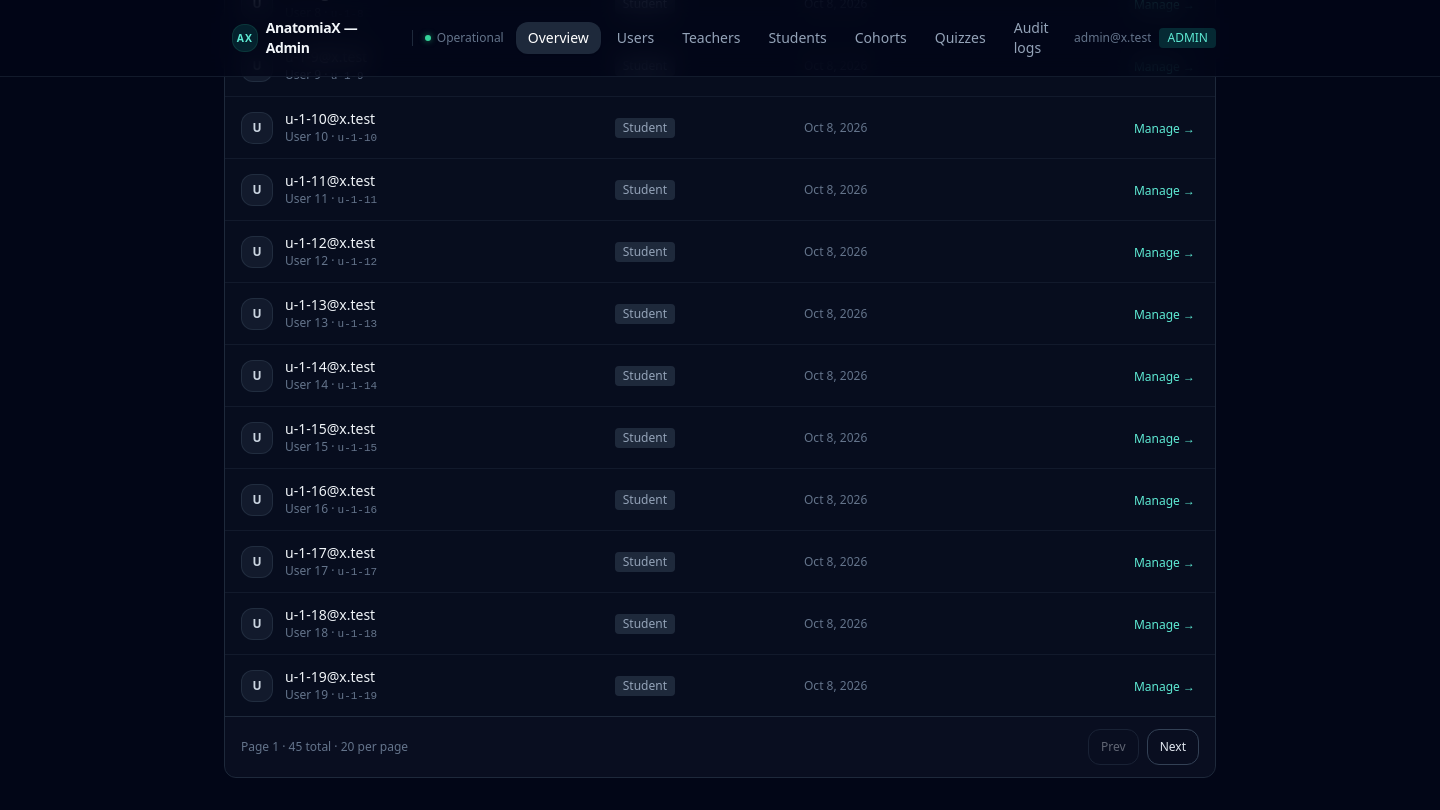
Test case: admin users pagination › pages forward and back, disabling prev on page one
(page scrolled)
Expected: the button with test id "admin-users-prev" is disabled, left=1088, top=729, right=1139, bottom=765
Click the button with test id "admin-users-next" at (1173, 747), box left=1147, top=729, right=1199, bottom=765
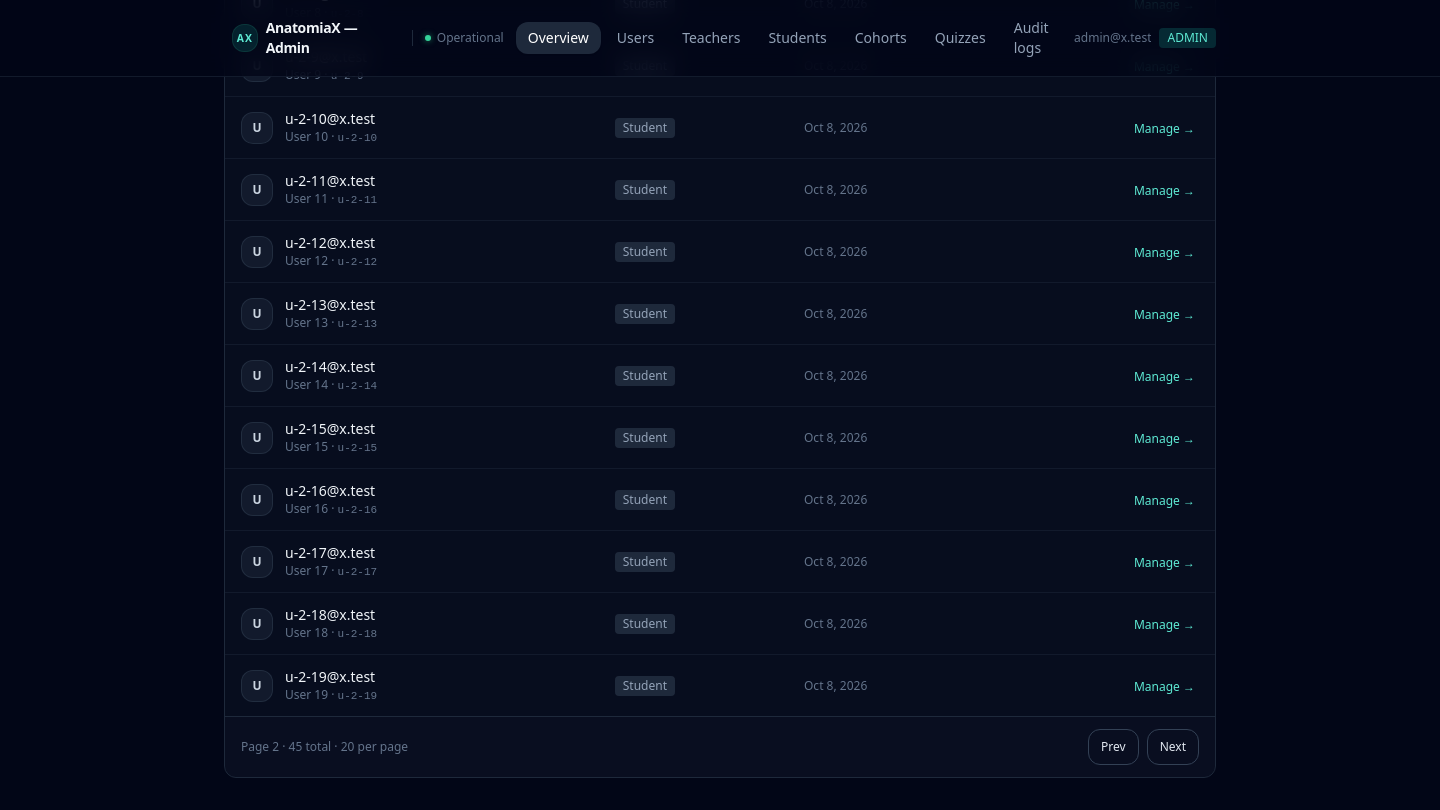
Expected: the button with test id "admin-users-prev" is enabled
Click the button with test id "admin-users-prev" at (1113, 747), box left=1088, top=729, right=1139, bottom=765
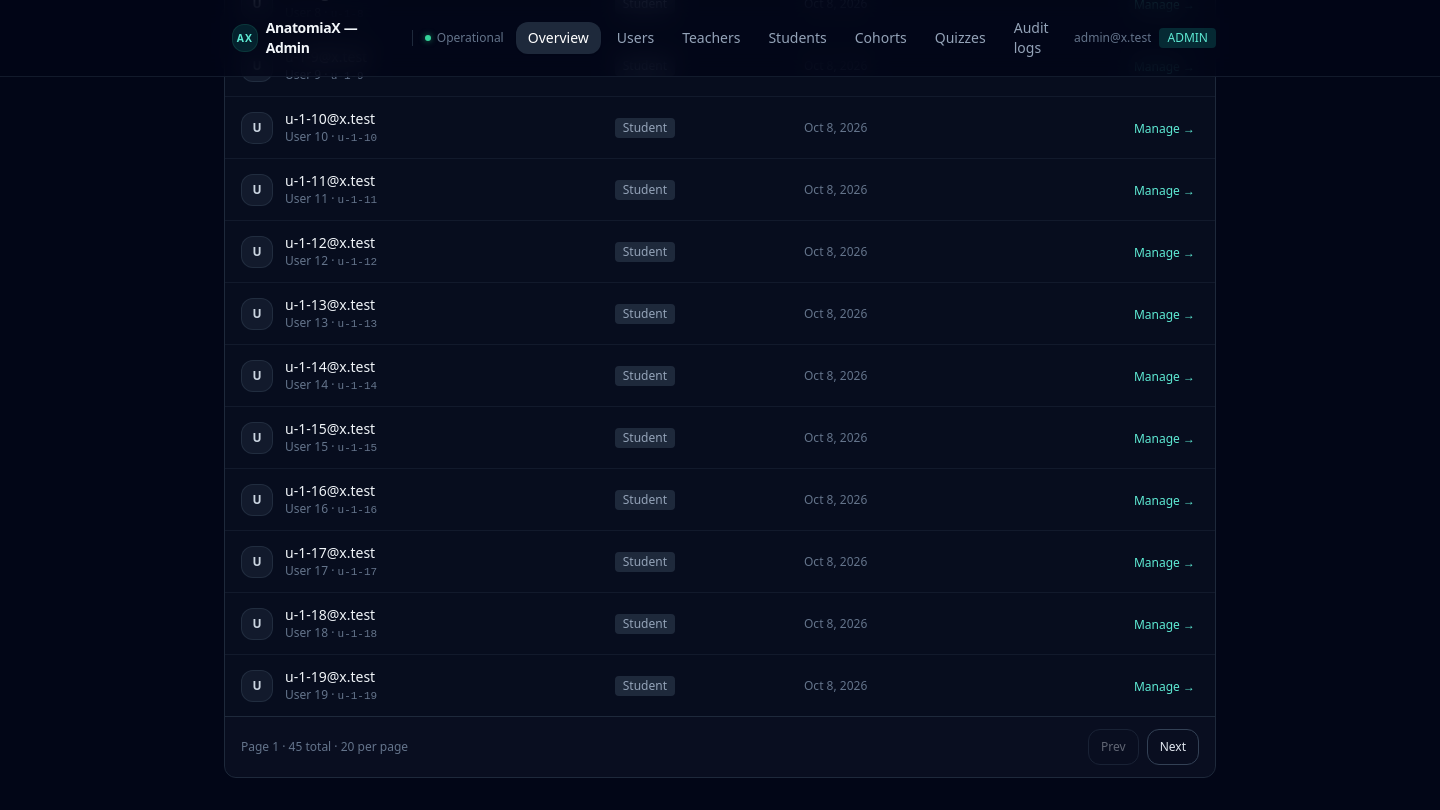
Expected: the button with test id "admin-users-prev" is disabled, left=1088, top=729, right=1139, bottom=765
